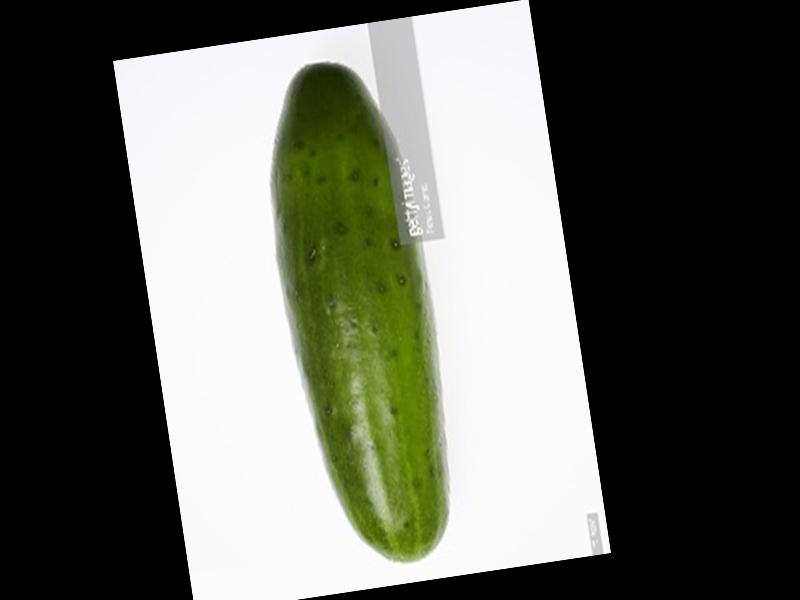Cucumber: (247, 46, 469, 578)
